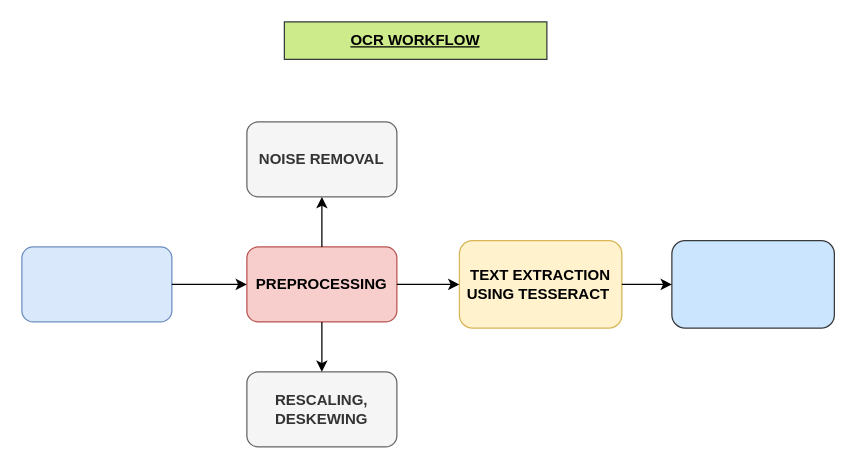
This 856x469 diagram has some shape labels left out. Each missing label, with the centre of its shape:
IMAGE / PDF: (x=96, y=284)
POST PROCESSING FOR GETTING DESIRED RESULTS: (x=752, y=283)
